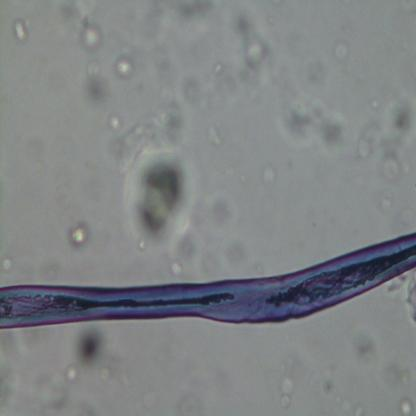Background material: (126, 148, 196, 247), (340, 323, 416, 398), (112, 98, 188, 164), (0, 337, 65, 407), (276, 100, 350, 159), (135, 1, 182, 90), (186, 62, 228, 158), (198, 194, 244, 273), (361, 100, 416, 166), (234, 14, 276, 87), (83, 57, 115, 109), (291, 51, 328, 89), (73, 327, 106, 369), (328, 36, 360, 69), (80, 16, 102, 54), (66, 218, 92, 250), (10, 16, 32, 48), (404, 269, 416, 319), (278, 376, 297, 406), (167, 258, 190, 280), (116, 54, 134, 81), (0, 258, 17, 282), (262, 165, 278, 189), (398, 398, 413, 416), (67, 369, 80, 384)
Cotton: (0, 230, 416, 332)
